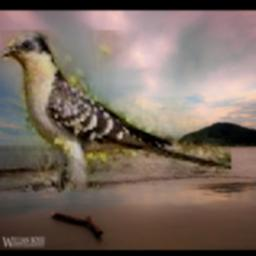Cuckoo: (2, 31, 232, 193)
